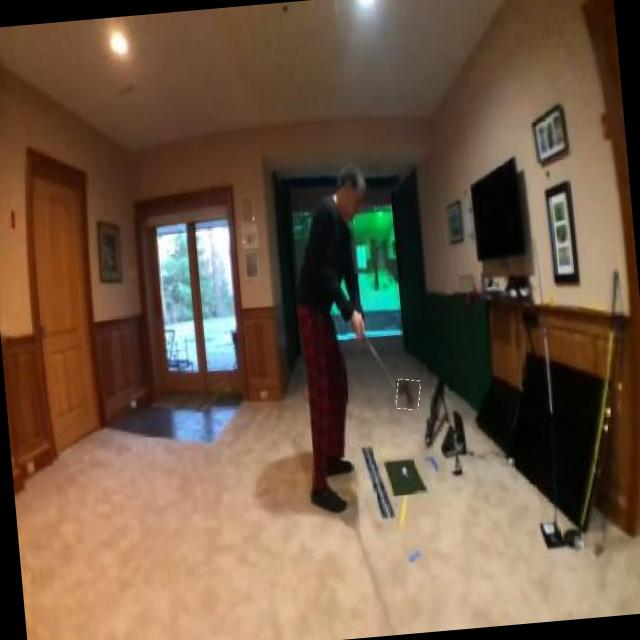club head: (394, 378, 422, 410)
